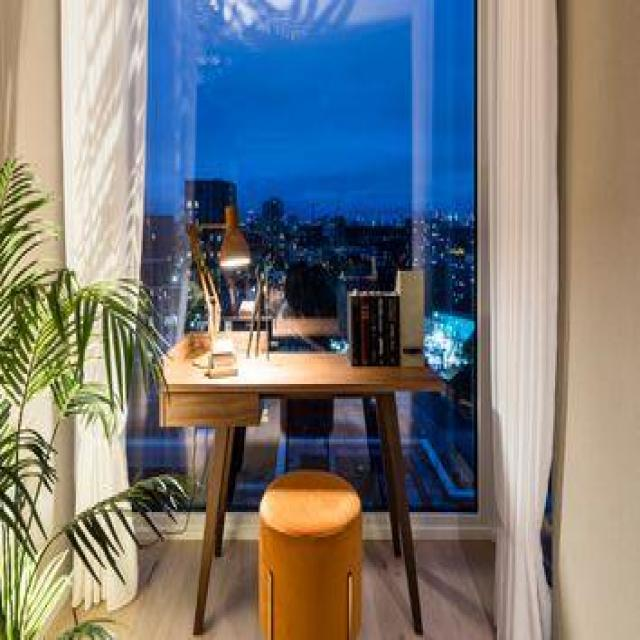Wall: (553, 0, 640, 638), (0, 0, 62, 267), (89, 538, 201, 639), (415, 541, 491, 639), (361, 541, 420, 639), (203, 540, 261, 638), (41, 420, 75, 528), (30, 403, 51, 431)
